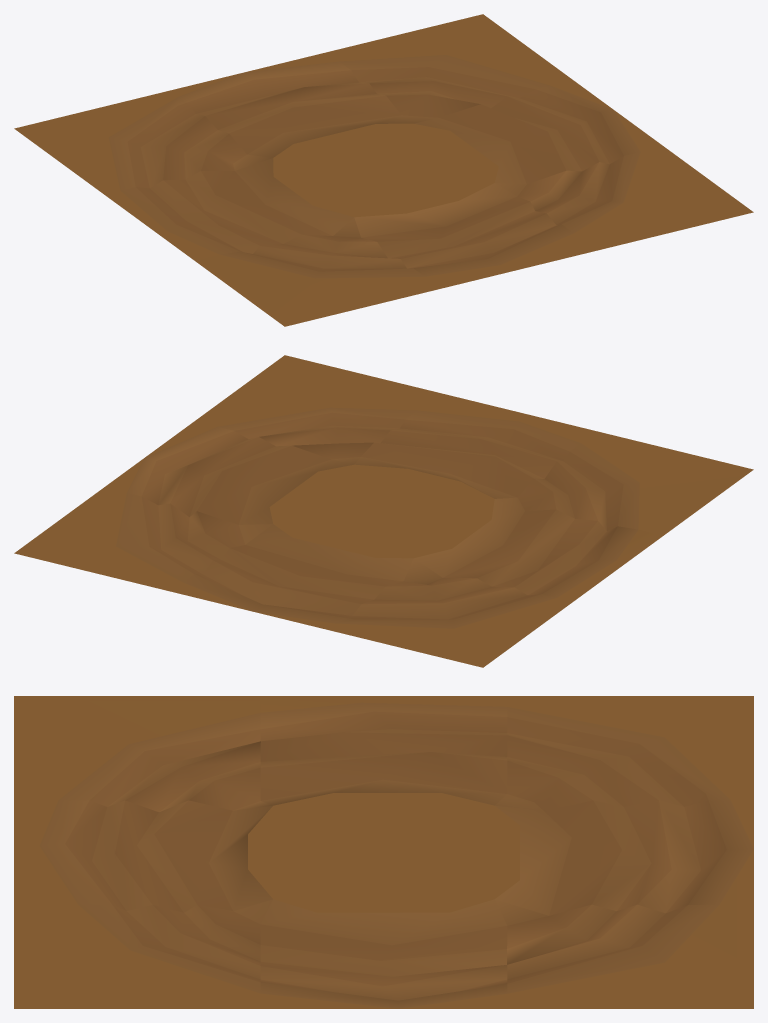
File: SA_Env_DirtCircle.gltf
3 views of the same model, one above another, from view 1: azimuth 30°, elevation 25°; view 2: azimuth 150°, elevation 25°; view 3: azimuth 270°, elevation 25° (orthographic). The views are drawn at different scales.
Parts seen in each view (by area): view 1: SA_Env_DirtCircle; view 2: SA_Env_DirtCircle; view 3: SA_Env_DirtCircle.
Boxes of the visible parts, bbox=[...] form: SA_Env_DirtCircle: bbox=[14, 14, 753, 326]; SA_Env_DirtCircle: bbox=[14, 355, 753, 667]; SA_Env_DirtCircle: bbox=[14, 696, 753, 1008].
Bounding box in the file's own units: 45 × 1.01 × 45.
Materials: 1 (1 with a texture image).
